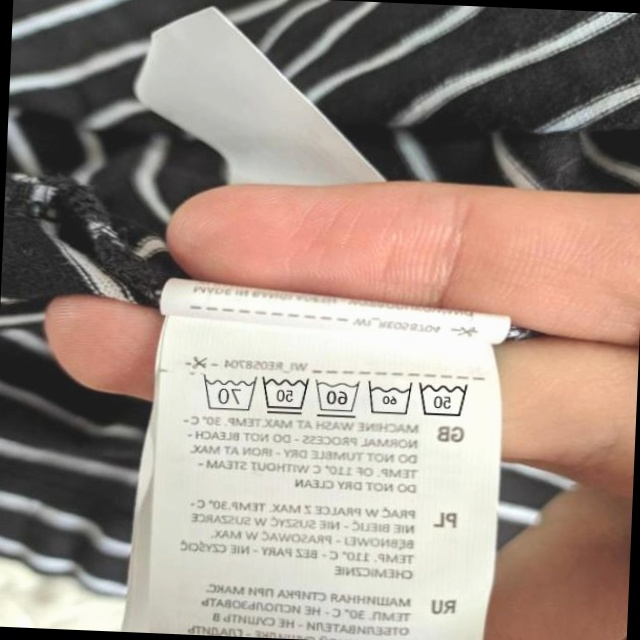50C: (415, 375, 469, 421), (258, 373, 309, 417)
60C: (311, 377, 362, 419), (363, 379, 413, 417)
70C: (198, 372, 257, 416)
